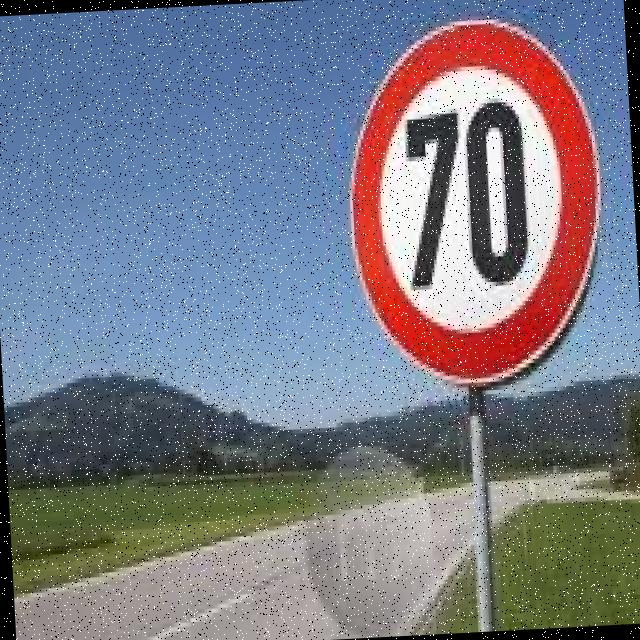speed_limit_70: (333, 4, 620, 403)
